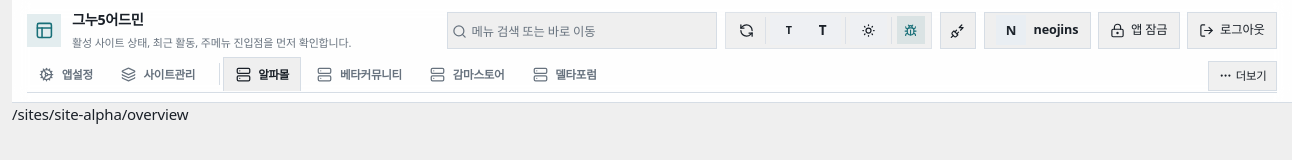
Test: AppShellHeader › returns to the site overview after moving through the app settings tab
Click the link "앱설정" at (66, 74), box [39, 67, 93, 82]
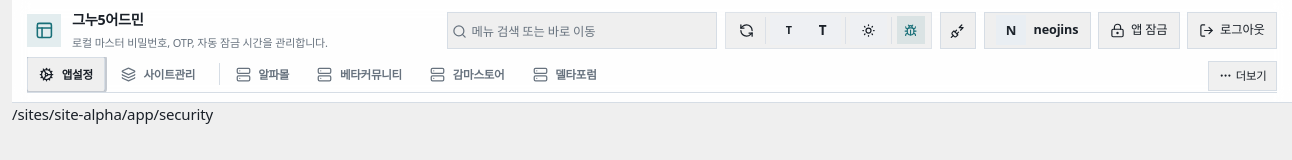
expect the text with test id "location" reads "/sites/site-alpha/app/security": met, box [12, 104, 213, 124]
Click the button "알파몰" at (262, 74), box [223, 57, 301, 91]
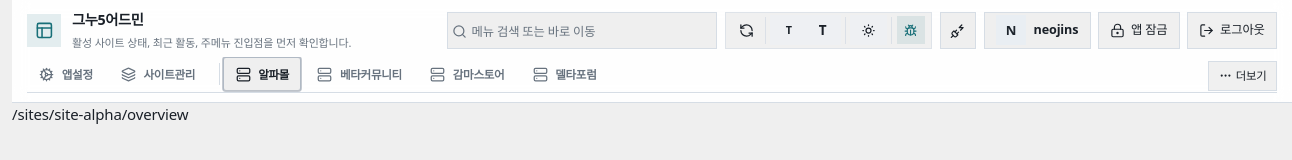
expect the text with test id "location" reads "/sites/site-alpha/overview": met, box [12, 104, 188, 124]
